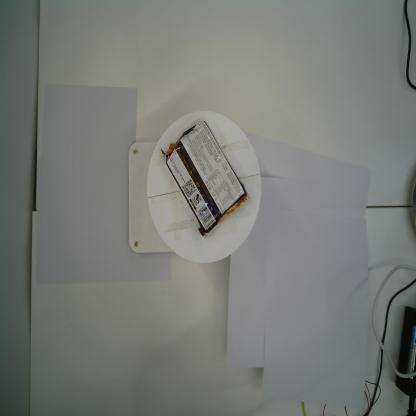Dessert: (160, 120, 250, 238)
